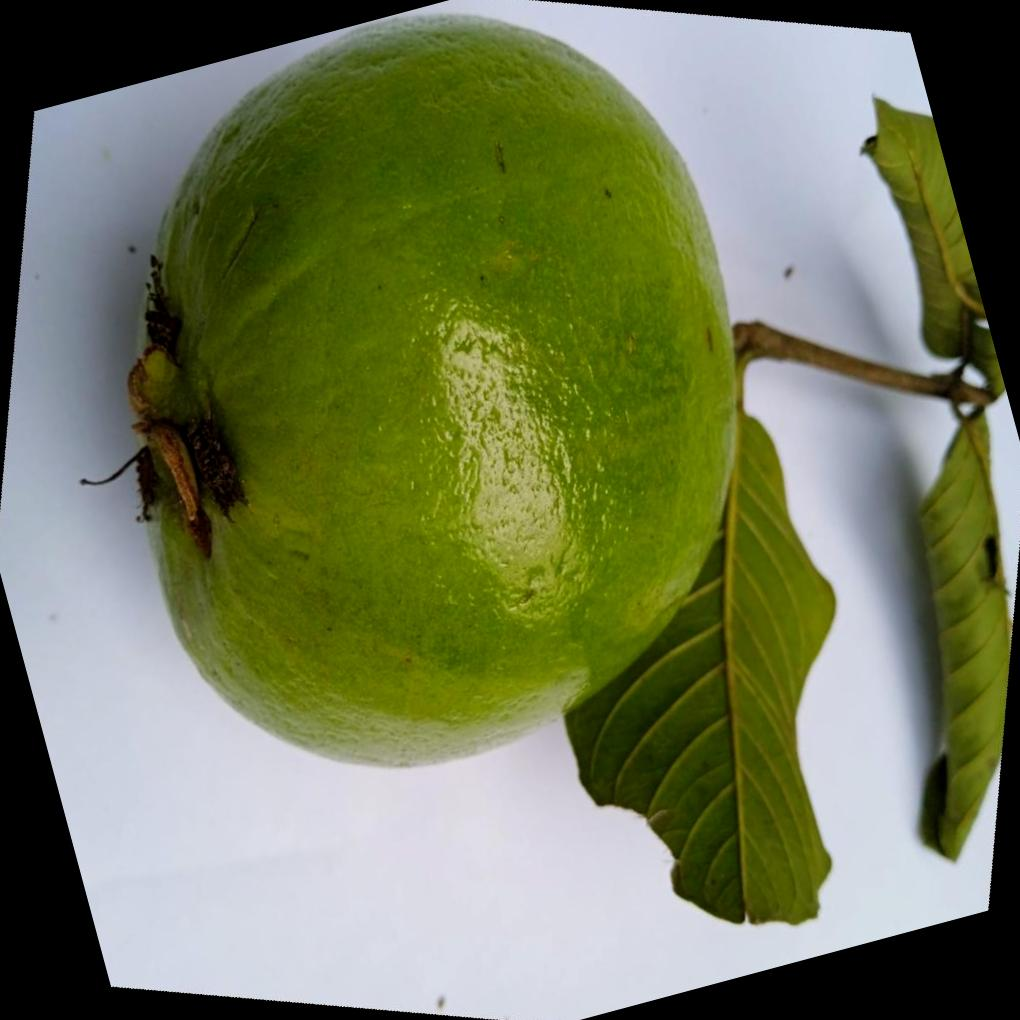FreshGuava: (121, 5, 830, 922)
